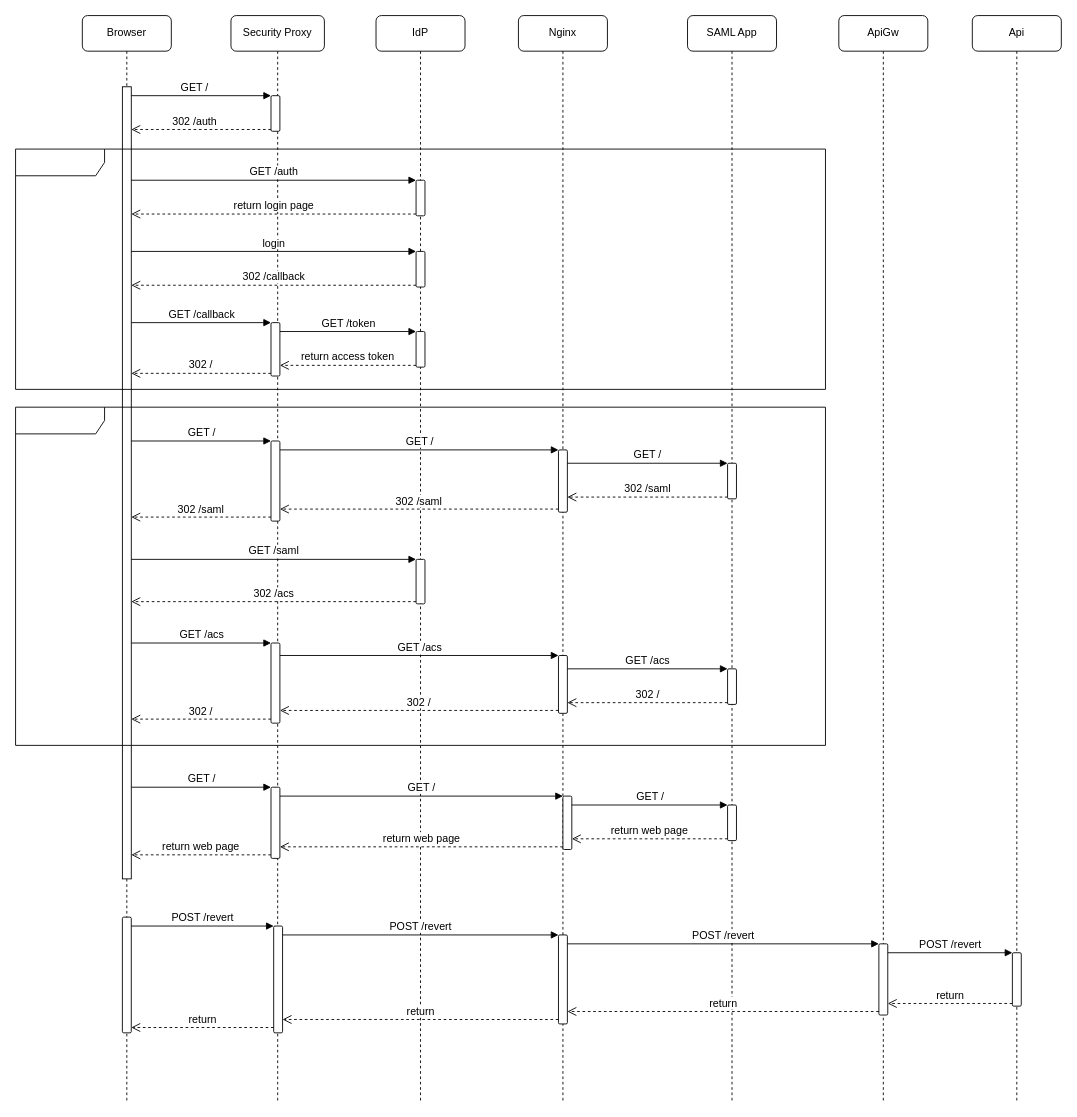
Image size: 1077x1117. Some labels were removed from this diagram. Each missing label, with the box of its shape:
oidc login: (15, 148, 825, 389)
saml login: (15, 406, 825, 745)
